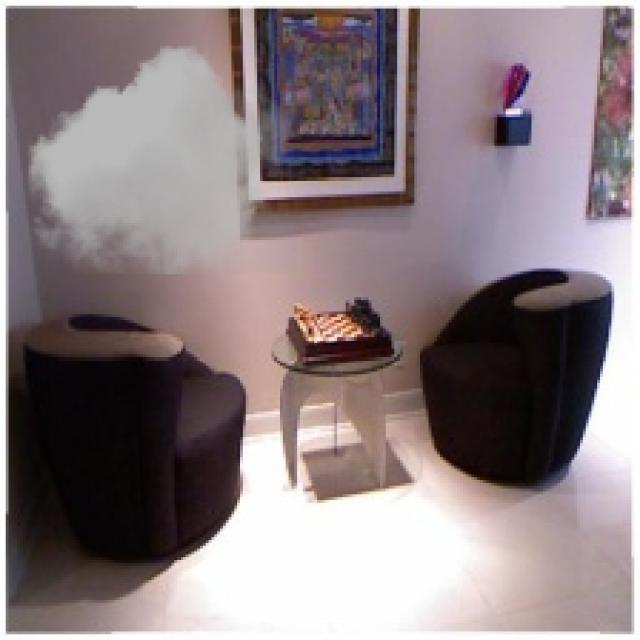smoke: (23, 46, 297, 274)
